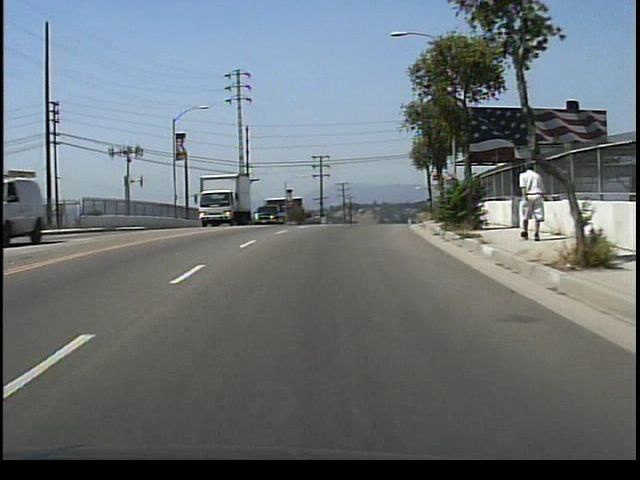person: (516, 165, 548, 245)
